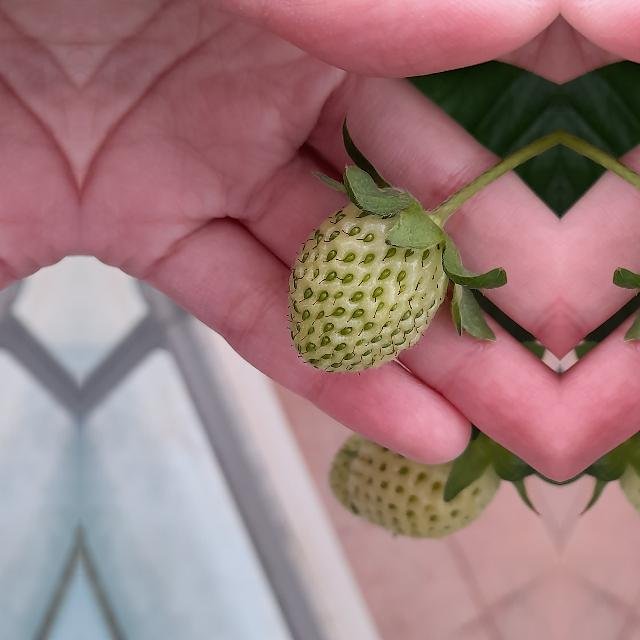Health_25: (288, 202, 448, 372)
